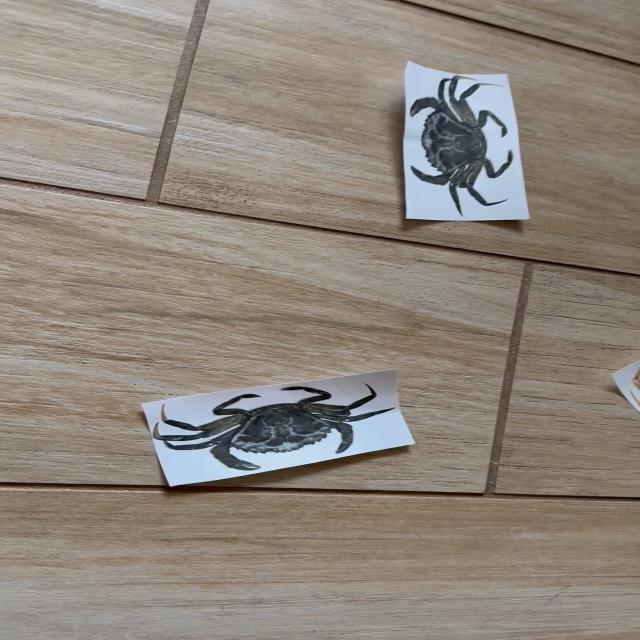egc: (159, 387, 392, 470), (410, 75, 513, 216)
